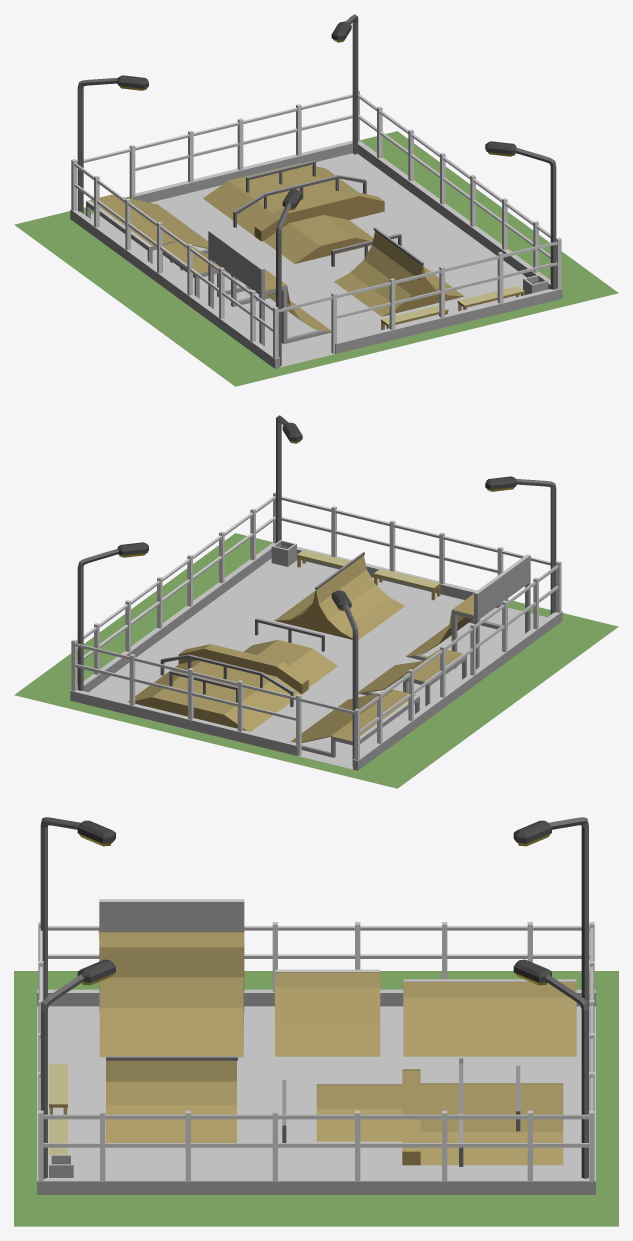
File: landscape_entertainment_001.fbx
The picture shows the model from 3 angles, top to bottom: view 1: azimuth 30°, elevation 25°; view 2: azimuth 150°, elevation 25°; view 3: azimuth 270°, elevation 25°; orthographic projection. The views are drawn at different scales.
Parts seen in each view (by area): view 1: landscape_entertainment_001; view 2: landscape_entertainment_001; view 3: landscape_entertainment_001.
Part boxes in pixels (x1,y1,x2,y2): landscape_entertainment_001: (14, 14, 618, 386); landscape_entertainment_001: (14, 415, 618, 788); landscape_entertainment_001: (14, 817, 618, 1226).
Bounding box in the file's own units: 1600 × 616 × 1600.
